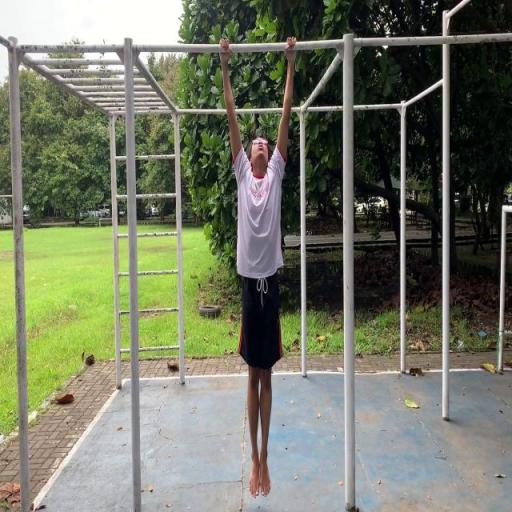Normal_BrenchPress: (219, 35, 298, 499)
